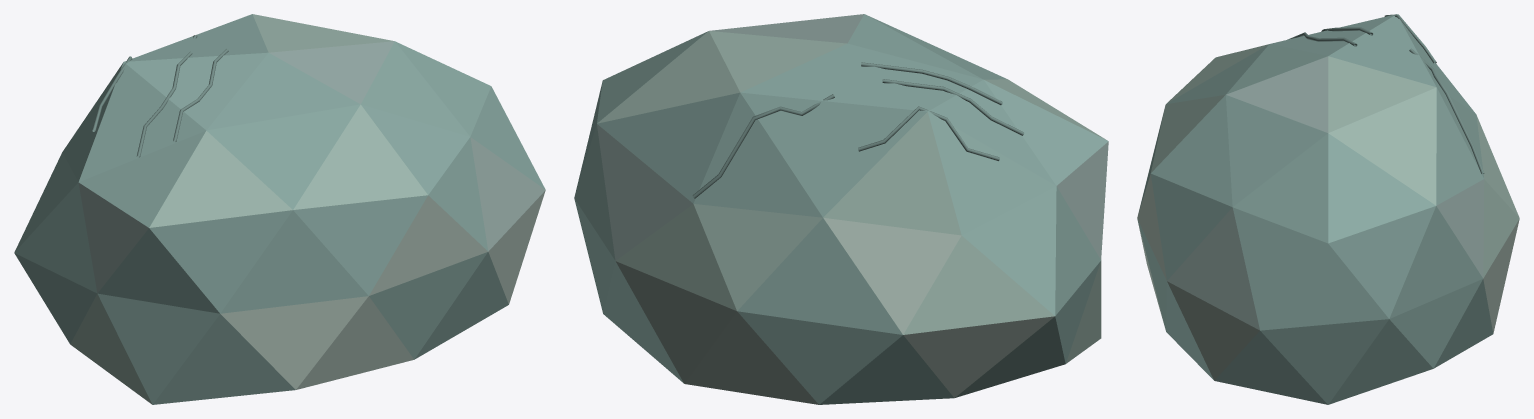
The model's file is Boulder.fbx.
3 renders of one model, left to right at view 1: azimuth 30°, elevation 25°; view 2: azimuth 150°, elevation 25°; view 3: azimuth 270°, elevation 25°, orthographic. The views are drawn at different scales.
Visible parts, largest first — view 1: SM_Boulder; view 2: SM_Boulder; view 3: SM_Boulder.
Boxes of the visible parts, x1=… form: SM_Boulder: x1=14, y1=14, x2=545, y2=404; SM_Boulder: x1=574, y1=14, x2=1108, y2=404; SM_Boulder: x1=1137, y1=14, x2=1519, y2=404.
Bounding box in the file's own units: 1.69 × 0.9519 × 1.27.
